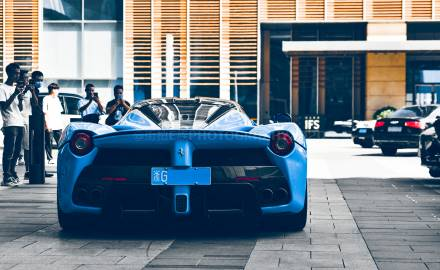other: (55, 99, 308, 232)
